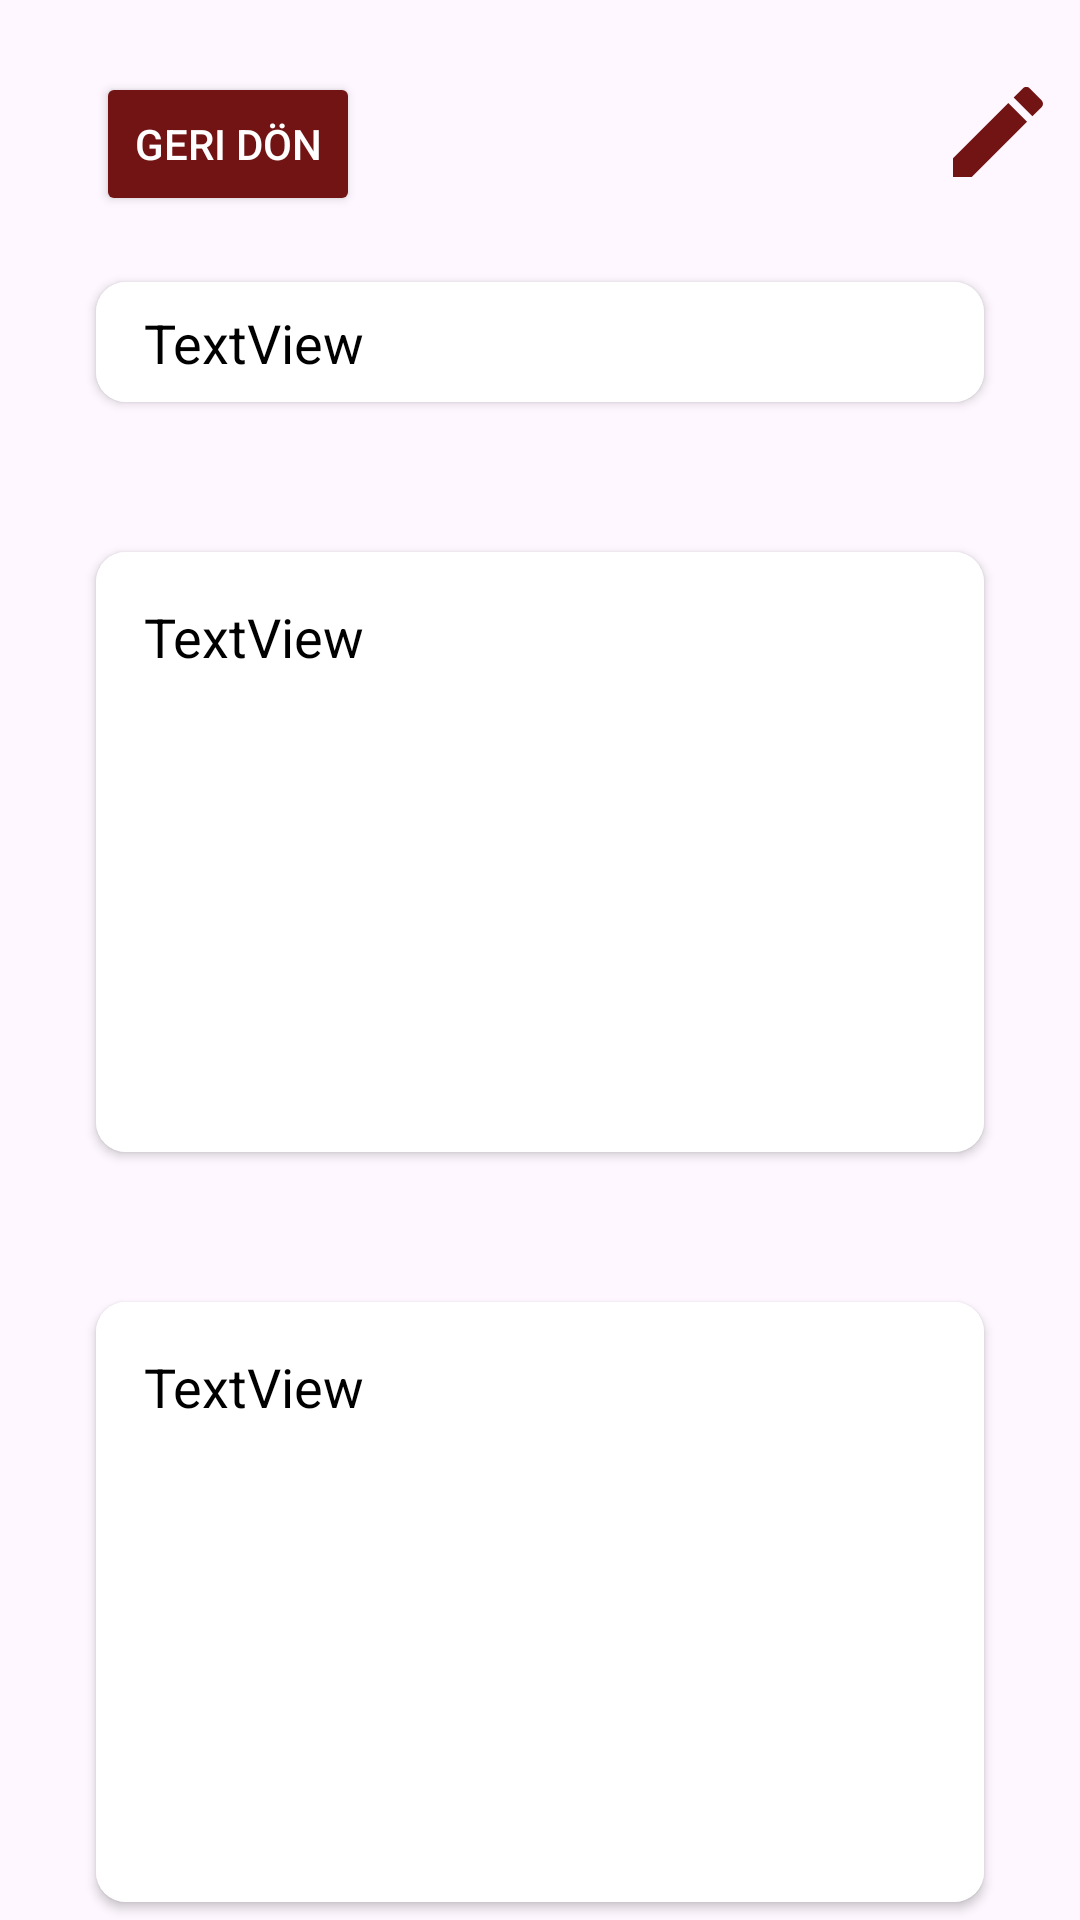

Named icons in this screenshot (1080 × 1920) and their centers, point (x, y):
edit: point (998, 132)
